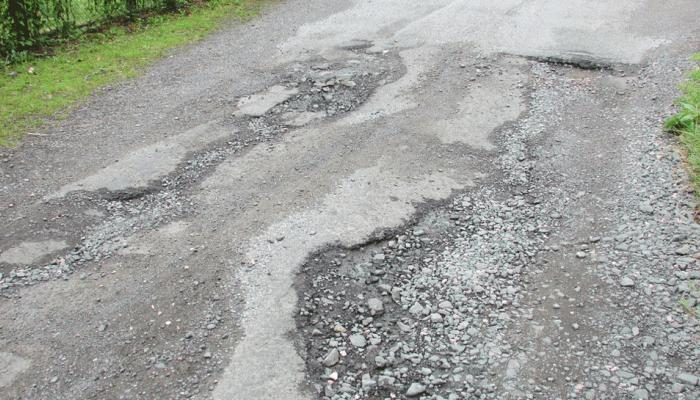damage: (272, 195, 548, 395), (219, 34, 415, 134), (69, 156, 211, 250), (494, 28, 657, 109)
